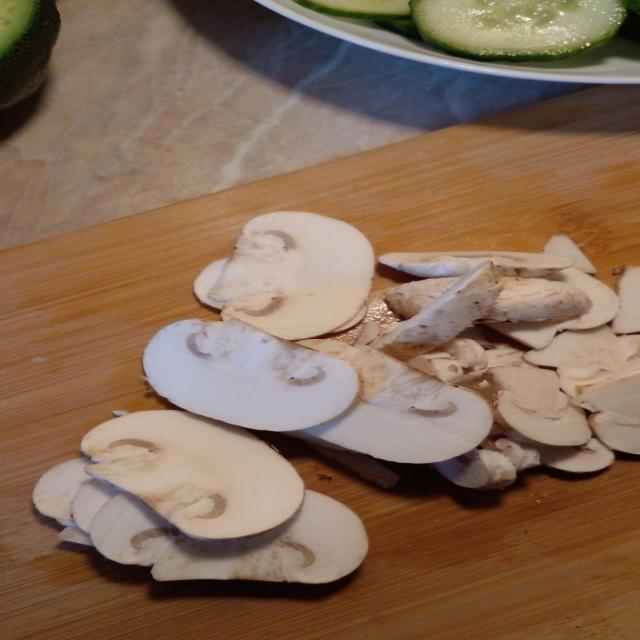champignon mushrooms: (81, 411, 303, 539), (144, 320, 359, 431), (303, 341, 492, 463), (207, 212, 374, 340), (152, 491, 367, 583), (372, 261, 500, 360), (490, 268, 619, 348), (487, 367, 591, 445), (91, 493, 178, 566), (481, 276, 591, 321), (379, 252, 573, 277), (33, 458, 91, 525), (407, 338, 487, 383), (434, 449, 516, 489), (538, 438, 613, 473), (72, 478, 120, 532), (543, 235, 596, 274), (590, 413, 639, 454), (612, 266, 639, 333), (194, 259, 228, 308), (494, 438, 540, 471), (58, 526, 93, 546)
